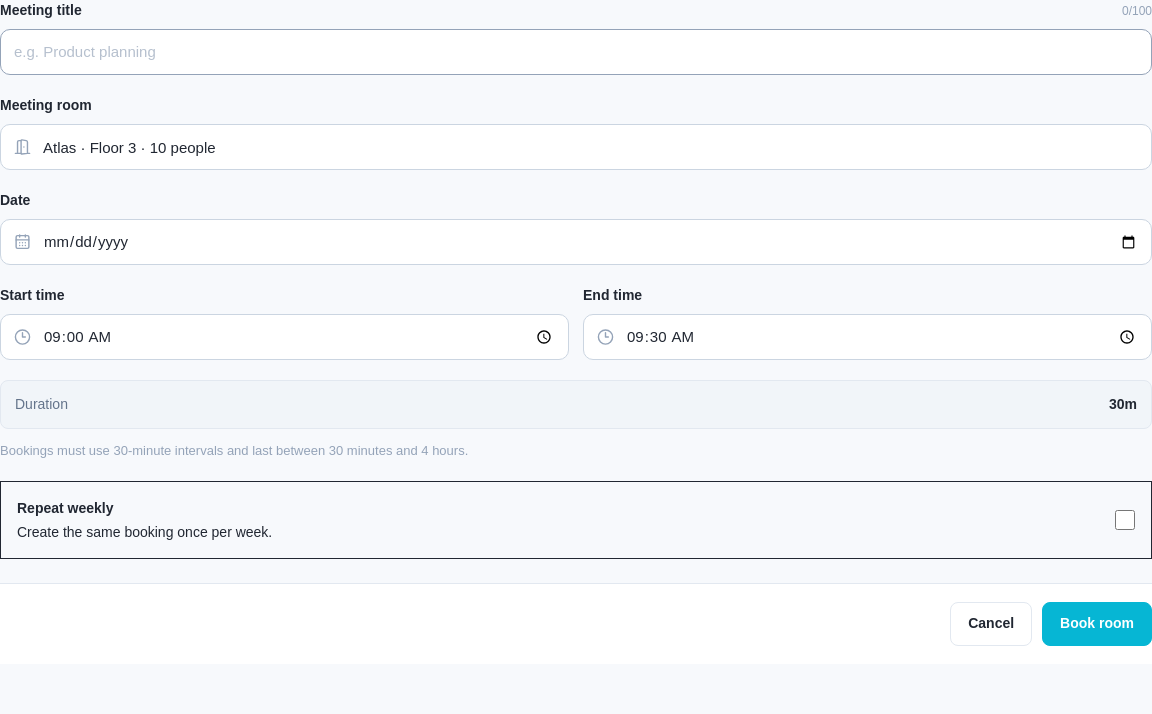
it: BookingForm recurrence › normalizes the recurrence count on blur
This screenshot has width=1152, height=714.
Click the checkbox labelled "Repeat weekly Create the same booking once per week." at [1125, 520], box [1115,510,1135,530]
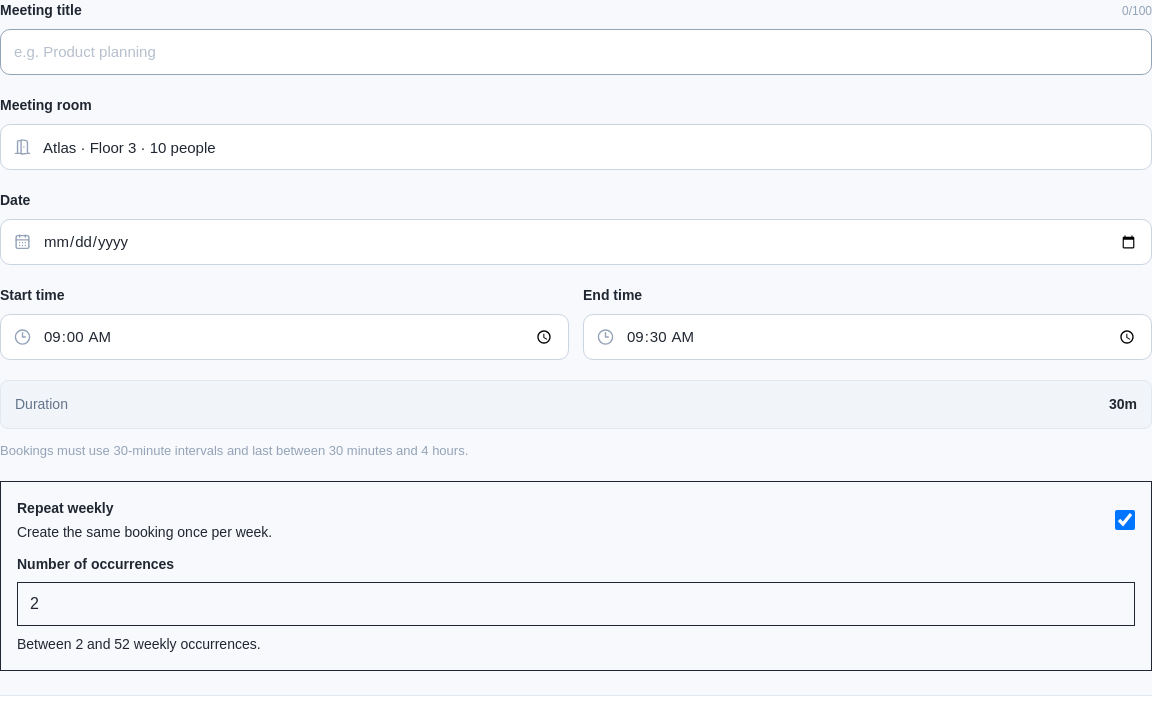
Replace the text in the number field with "100" at [576, 604], box [17,582,1135,626]
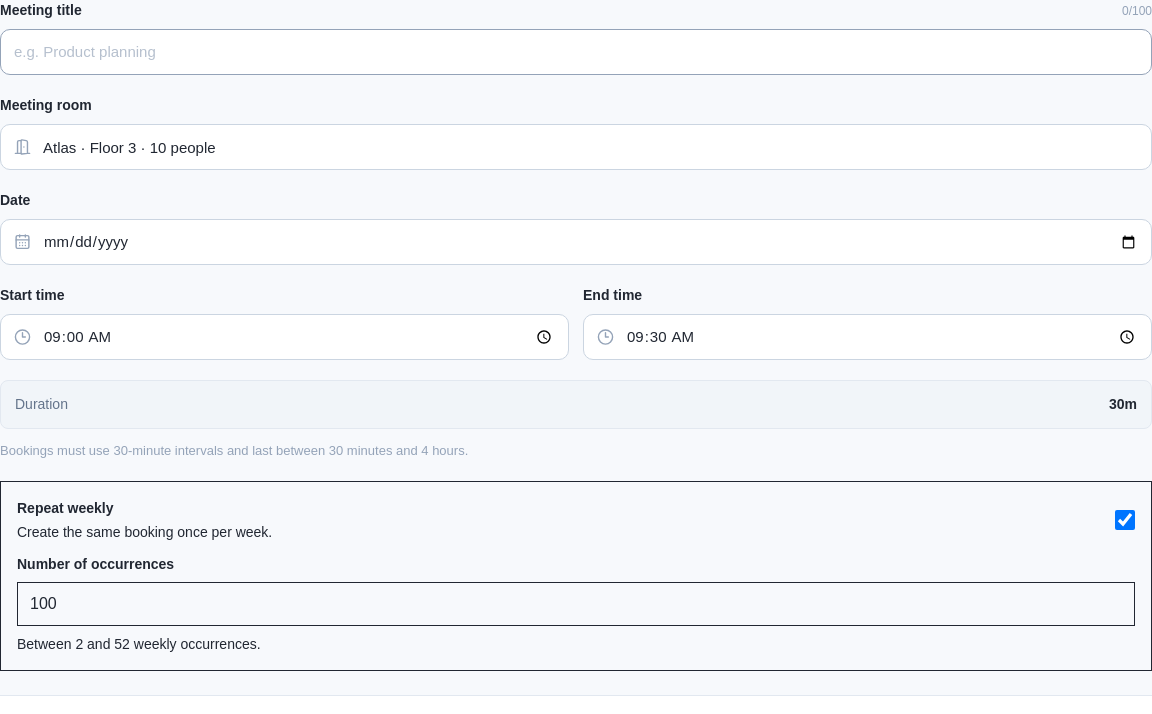
Leave the number field, box [17,582,1135,626]
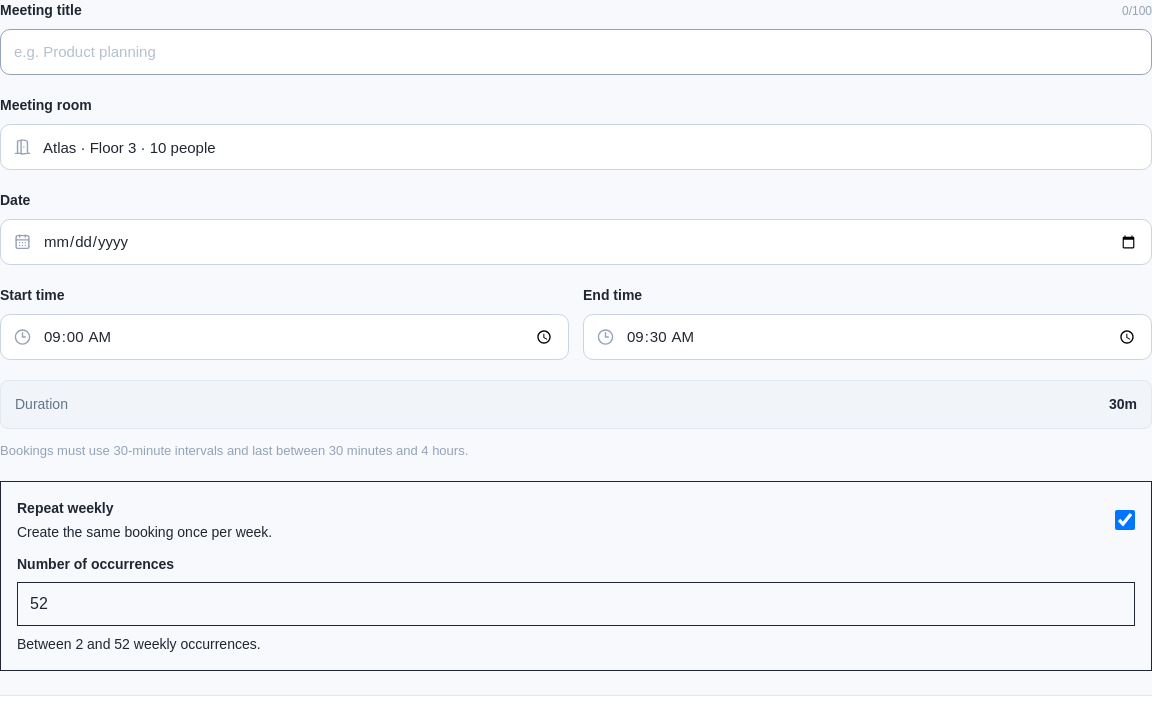
Expected: the number field holds "52", [17,582,1135,626]
